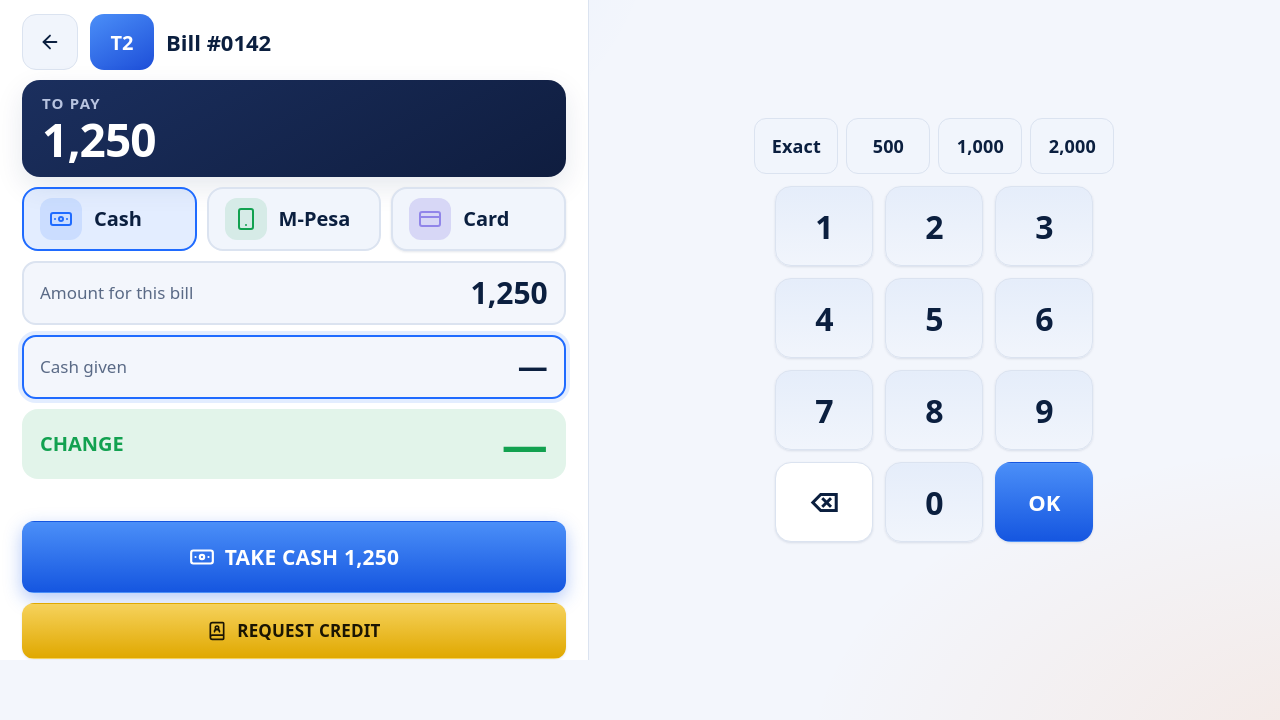
Test case: pay screen › shows change for cash and the PAID screen when the bill is settled
Expected: the button "TAKE CASH 1,250" is shown, x1=22 y1=521 x2=566 y2=593
What coordinates should you click on to do the following:
click the button "2,000"
I would click on:
 (1072, 146)
Its box is x1=1030 y1=118 x2=1114 y2=174.
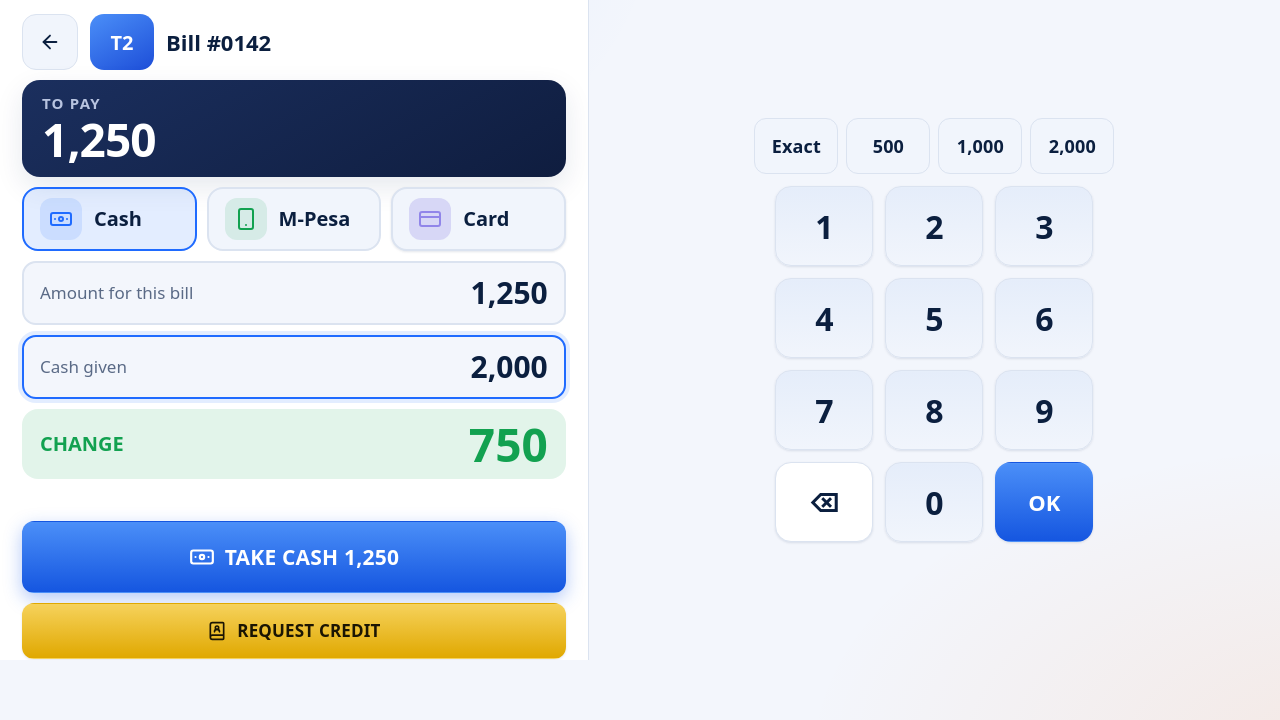
Now the text "750" is shown, box x1=469 y1=413 x2=548 y2=475
What coordinates should you click on to do the following:
click the button "TAKE CASH 1,250"
I would click on:
 (294, 557)
Its box is x1=22 y1=521 x2=566 y2=593.
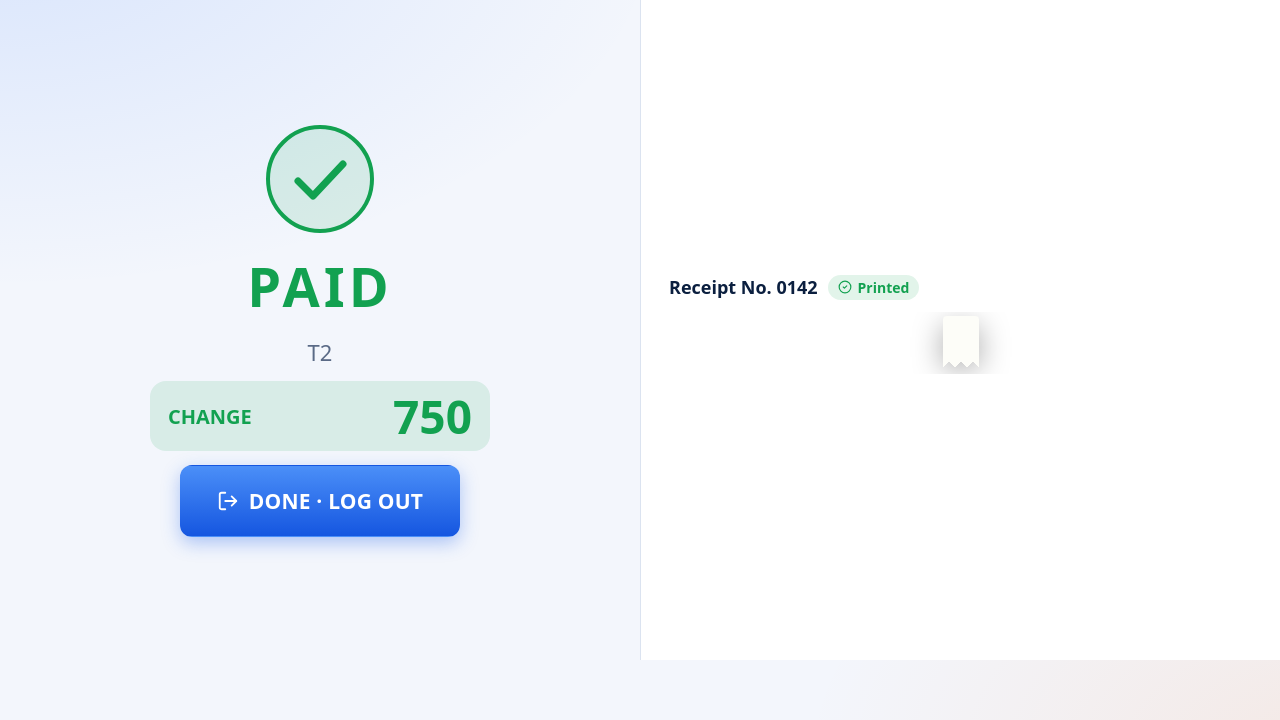
Now the text "PAID" is shown, box x1=247 y1=249 x2=393 y2=323
